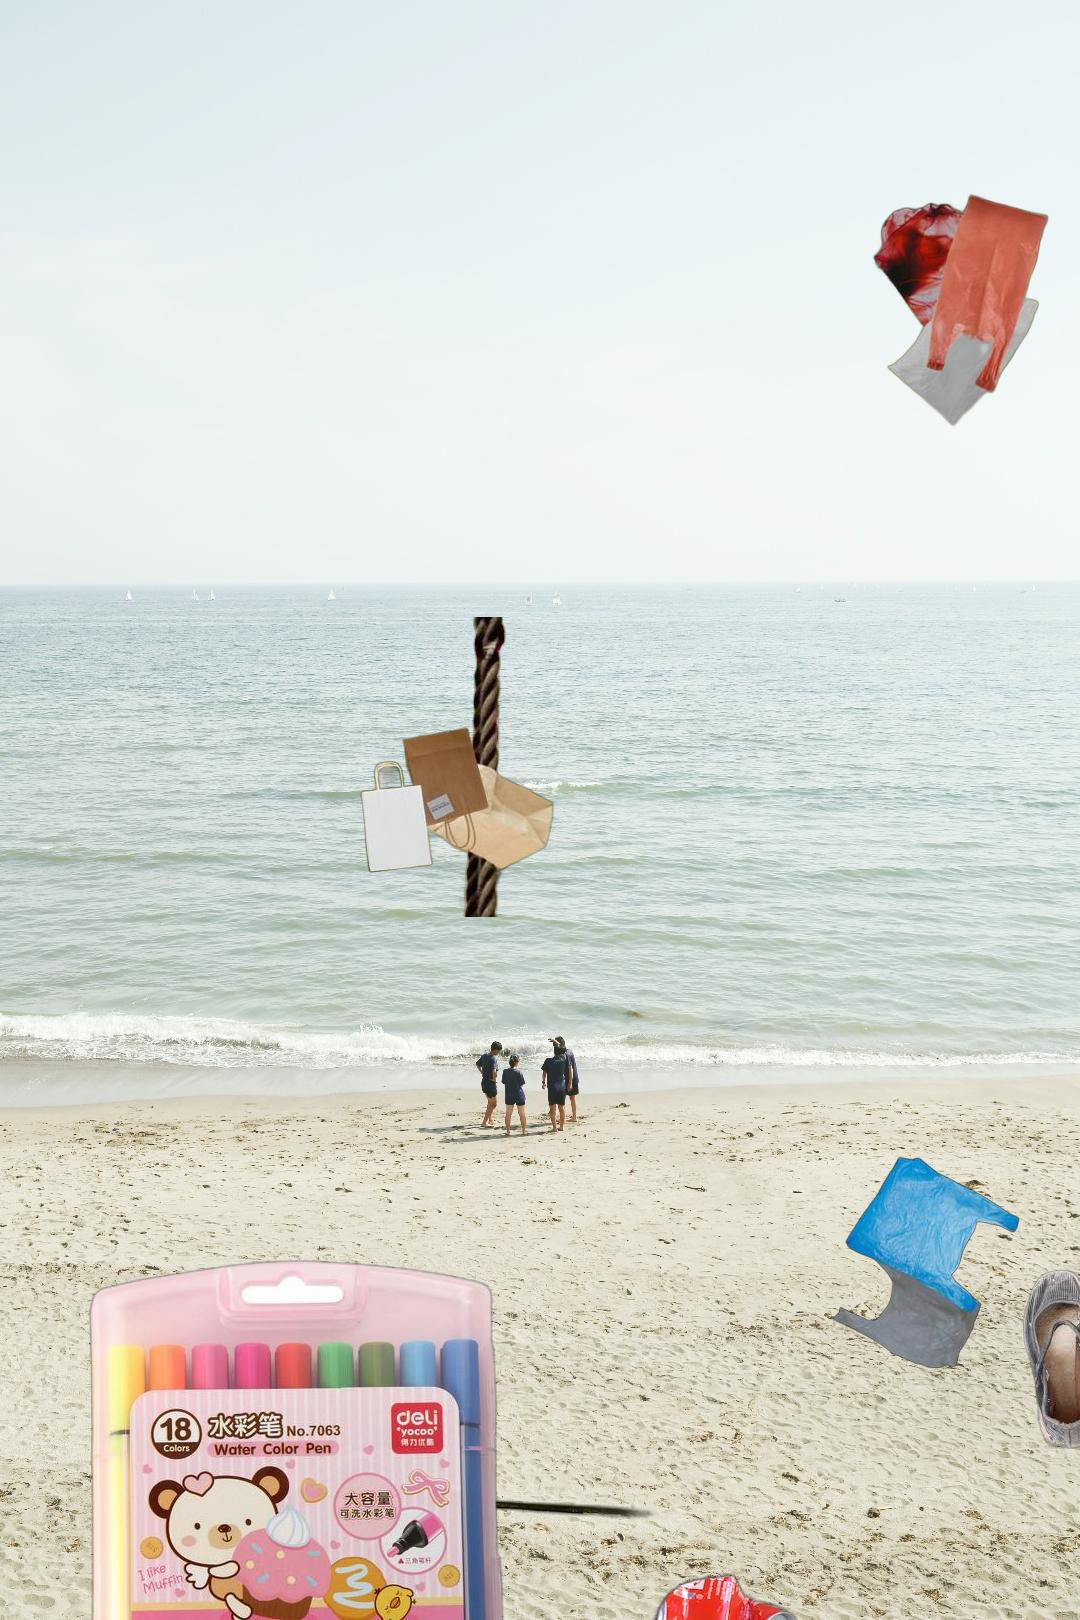metal-cans: (318, 1343, 830, 1620)
paper-bag: (358, 617, 556, 917)
penholder: (86, 1256, 507, 1620)
plastic-bag: (871, 192, 1050, 429), (830, 1156, 1022, 1369)
shoes: (1021, 1264, 1080, 1449)
